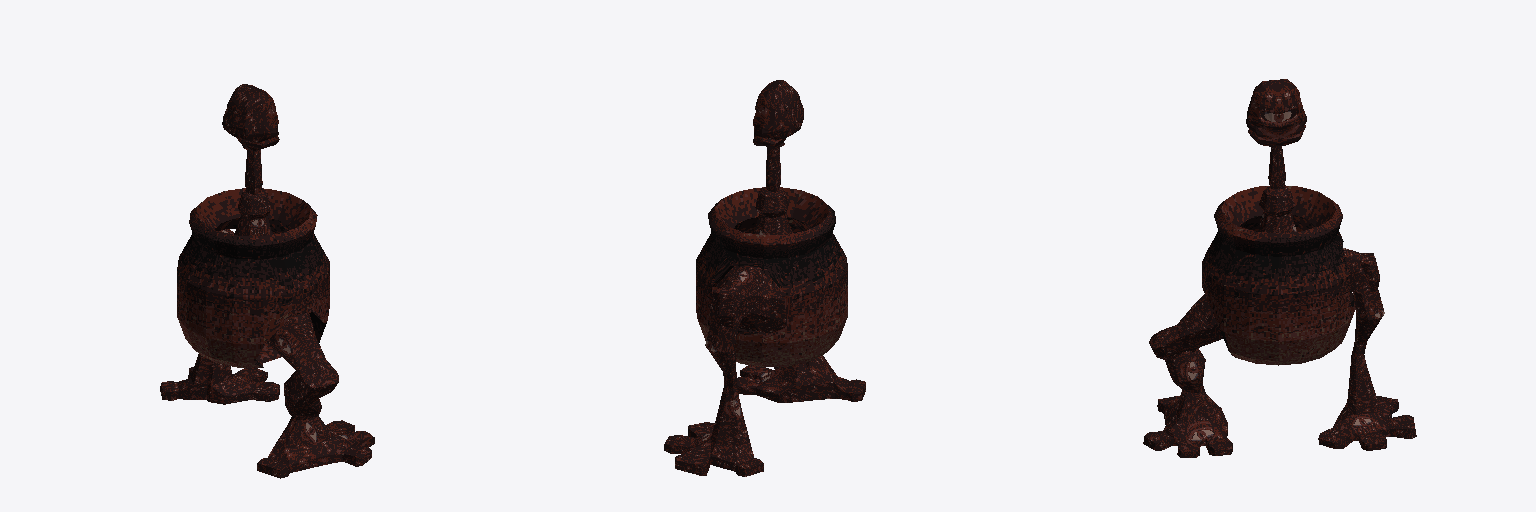
3 views of the same model, side by side, from view 1: azimuth 30°, elevation 25°; view 2: azimuth 150°, elevation 25°; view 3: azimuth 270°, elevation 25° (orthographic).
Parts seen in each view (by area): view 1: Pot_cracked_sep15, Pot_cracked_sep14, Pot_cracked_sep13, Pot_cracked_cut16; view 2: Pot_cracked_sep15, Pot_cracked_sep14, Pot_cracked_sep13, Pot_cracked_cut16; view 3: Pot_cracked_sep15, Pot_cracked_sep14, Pot_cracked_sep13, Pot_cracked_cut16.
Boxes of the visible parts, x1,y1,x2,y2 form: Pot_cracked_sep15: [177, 188, 329, 367]; Pot_cracked_sep14: [160, 190, 374, 478]; Pot_cracked_sep13: [222, 84, 279, 150]; Pot_cracked_cut16: [245, 150, 262, 194]; Pot_cracked_sep15: [696, 187, 847, 366]; Pot_cracked_sep14: [664, 187, 865, 476]; Pot_cracked_sep13: [753, 80, 803, 147]; Pot_cracked_cut16: [766, 147, 780, 192]; Pot_cracked_sep15: [1202, 185, 1355, 365]; Pot_cracked_sep14: [1143, 187, 1416, 457]; Pot_cracked_sep13: [1246, 79, 1306, 146]; Pot_cracked_cut16: [1268, 146, 1285, 188].
Size of the model in its own units: 2.7 by 6.33 by 4.57.
Materials: 2 (2 with a texture image).